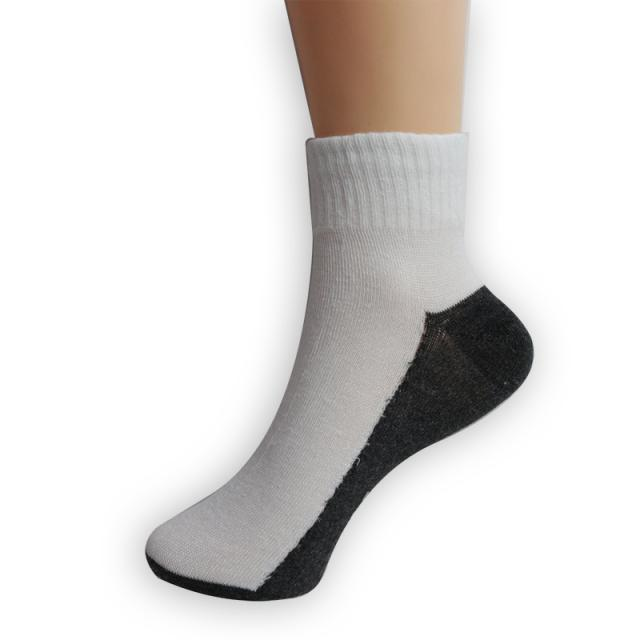sock: (144, 130, 534, 600)
